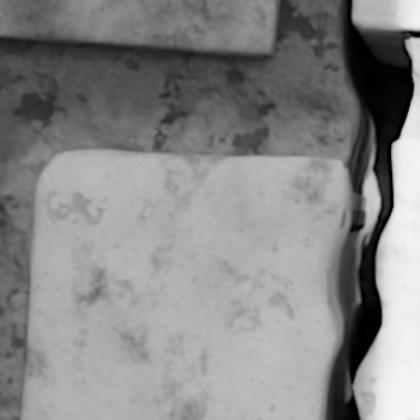brick: (0, 0, 277, 55), (353, 0, 419, 29)
broken_brick: (19, 148, 340, 419), (355, 136, 419, 419)
crack: (316, 0, 419, 419)
